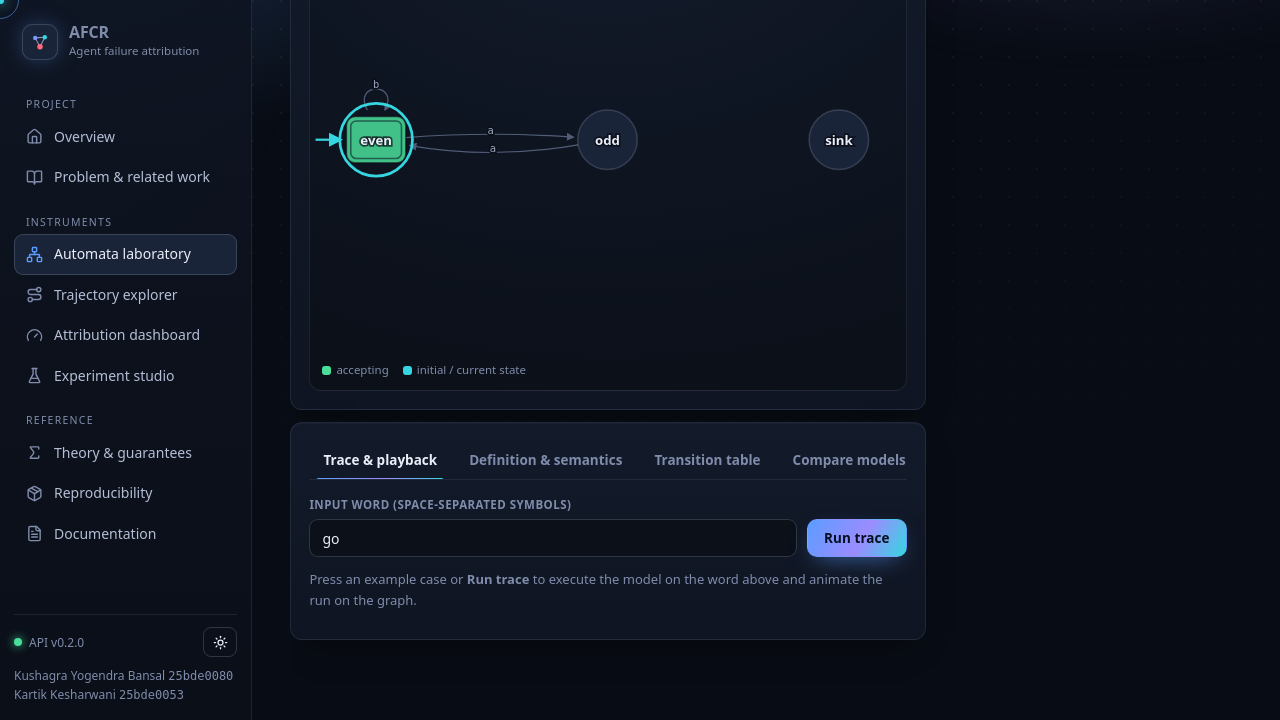
Test case: automata laboratory results are specific to the machine › transducers show outputs and no acceptance verdict
(page scrolled)
Click the button with test id "run-trace" at (857, 538), box [807,519,907,557]
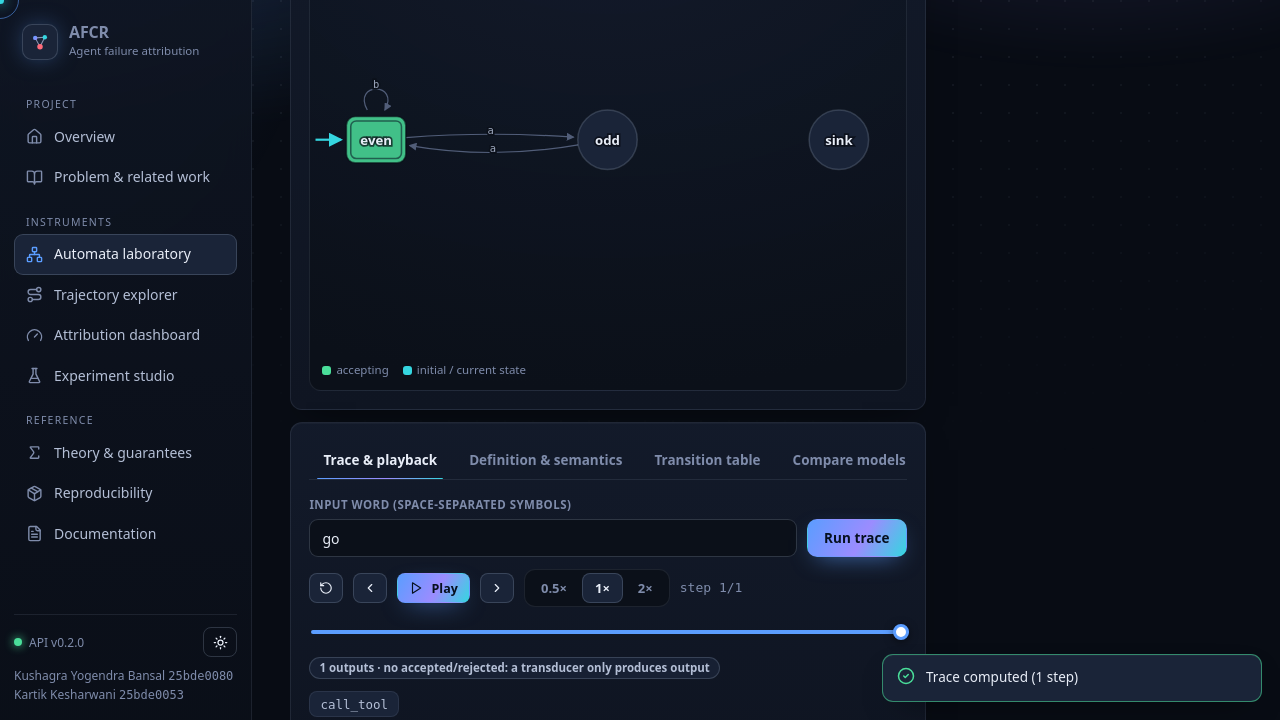
expect the text "no accepted/rejected" is shown: met, box [326,660,710,675]
